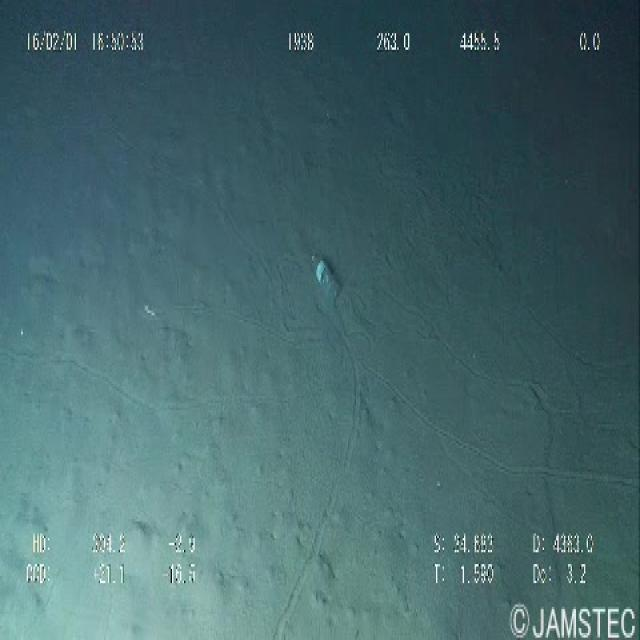plastic: (299, 230, 369, 329)
